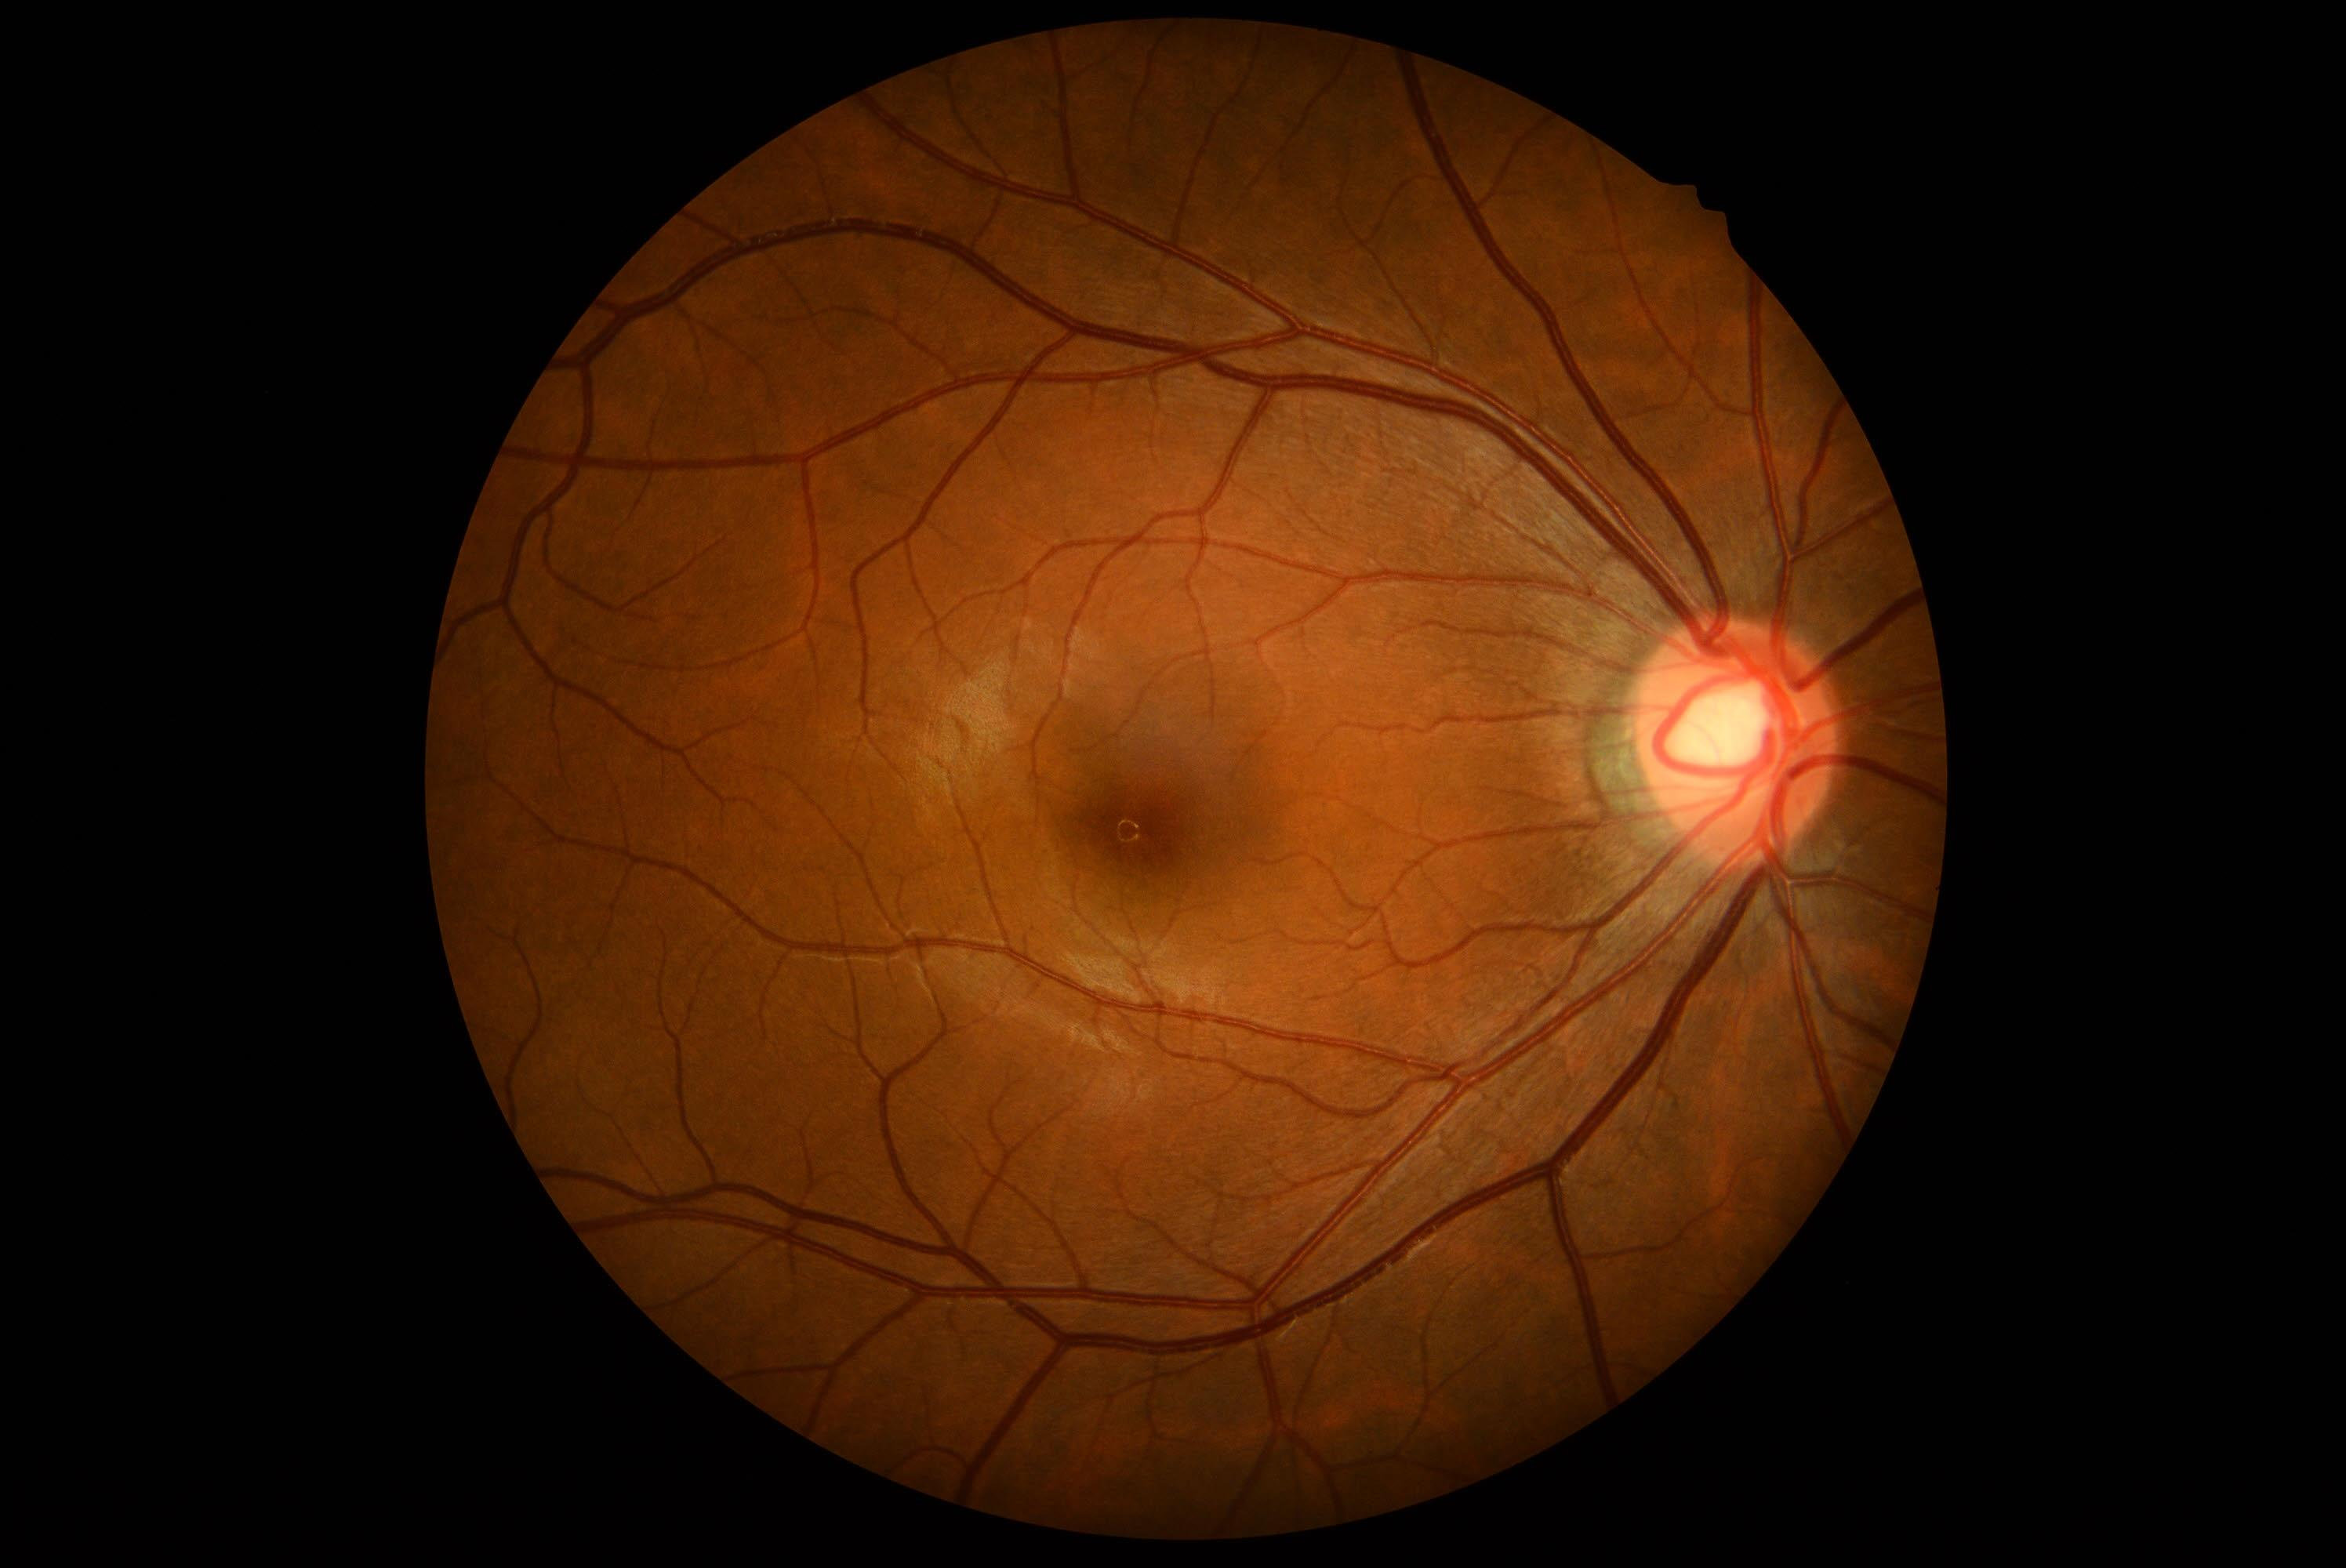Fovea: (1043, 749, 1207, 912)
